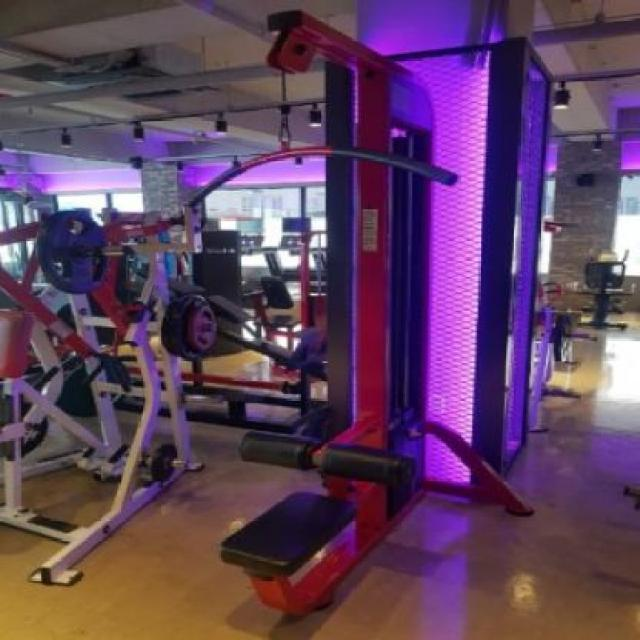Lat Pull Down: (104, 0, 569, 618)
